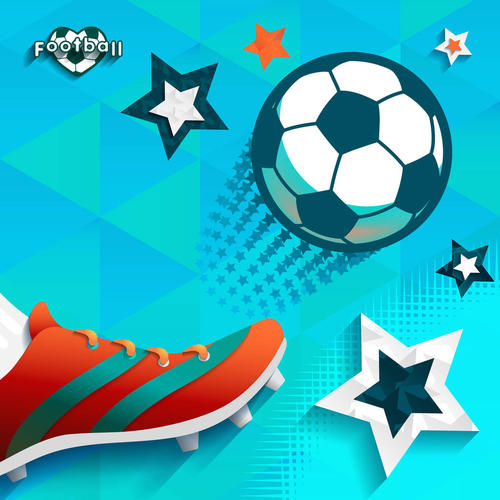football: (252, 52, 451, 253)
